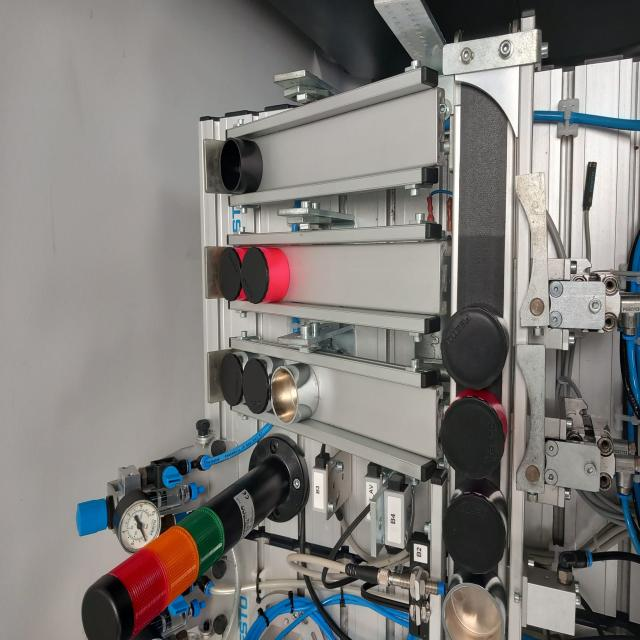NoLid: (438, 562, 512, 640), (271, 357, 321, 426), (216, 138, 258, 197)
Workpiece: (440, 387, 512, 477), (445, 478, 514, 570), (444, 304, 514, 384), (243, 241, 292, 310), (244, 351, 274, 415), (215, 246, 245, 306), (217, 348, 244, 408)
